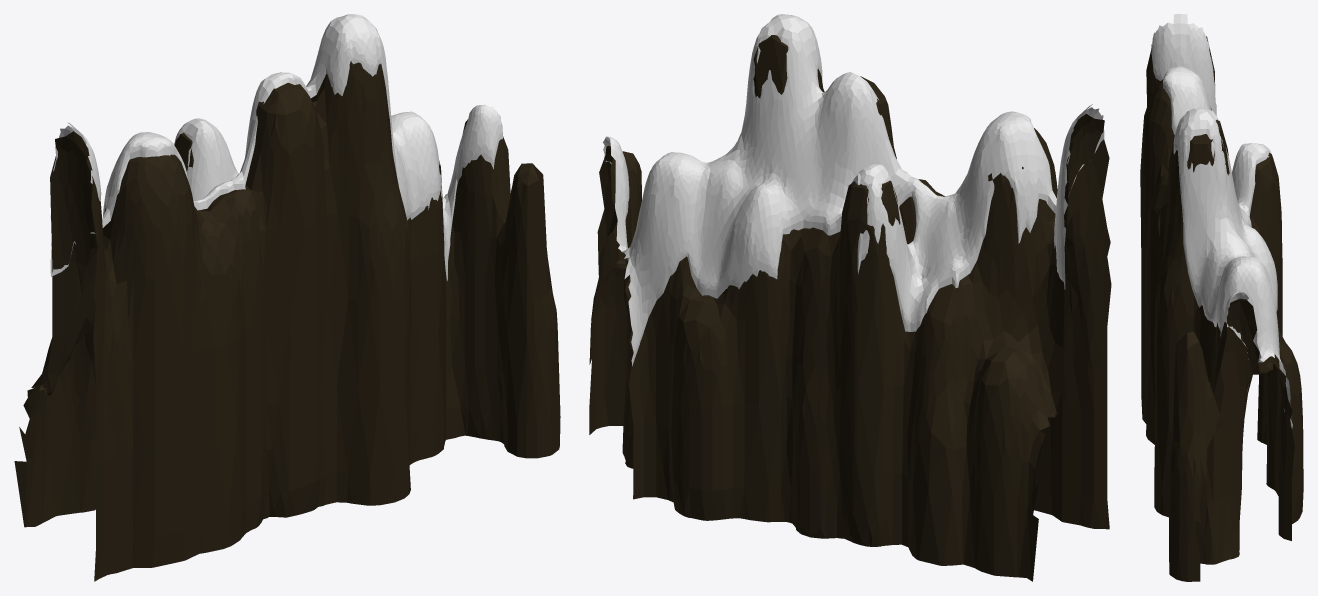
Rendered from Mtn_Wall_W3_M.fbx.
3 views of the same model, side by side, from view 1: azimuth 30°, elevation 25°; view 2: azimuth 150°, elevation 25°; view 3: azimuth 270°, elevation 25° (orthographic). The views are drawn at different scales.
Visible parts, largest first — view 1: Mtn_Wall_W3_M; view 2: Mtn_Wall_W3_M; view 3: Mtn_Wall_W3_M.
Part boxes in pixels (bbox=[...]): Mtn_Wall_W3_M: bbox=[14, 14, 560, 581]; Mtn_Wall_W3_M: bbox=[589, 14, 1111, 581]; Mtn_Wall_W3_M: bbox=[1140, 14, 1303, 581].
Bounding box in the file's own units: 19891 × 18038 × 6829.
